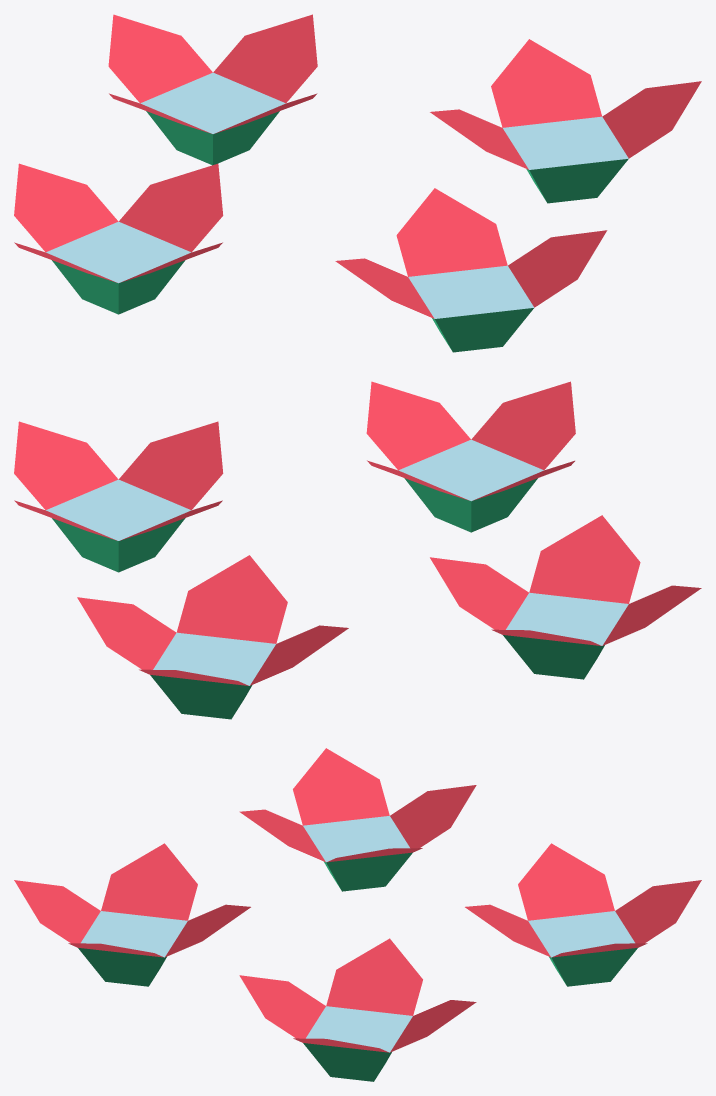
File: flowersLow.glb
3 views of the same model, one above another, from view 1: azimuth 30°, elevation 25°; view 2: azimuth 150°, elevation 25°; view 3: azimuth 270°, elevation 25° (orthographic). The views are drawn at different scales.
Parts seen in each view (by area): view 1: flowersLow; view 2: flowersLow; view 3: flowersLow.
Part boxes in pixels (x1,y1,x2,y2): flowersLow: [14, 14, 701, 352]; flowersLow: [14, 381, 701, 719]; flowersLow: [14, 748, 701, 1081].
Bounding box in the file's own units: 0.7639 × 0.1 × 0.7639.
